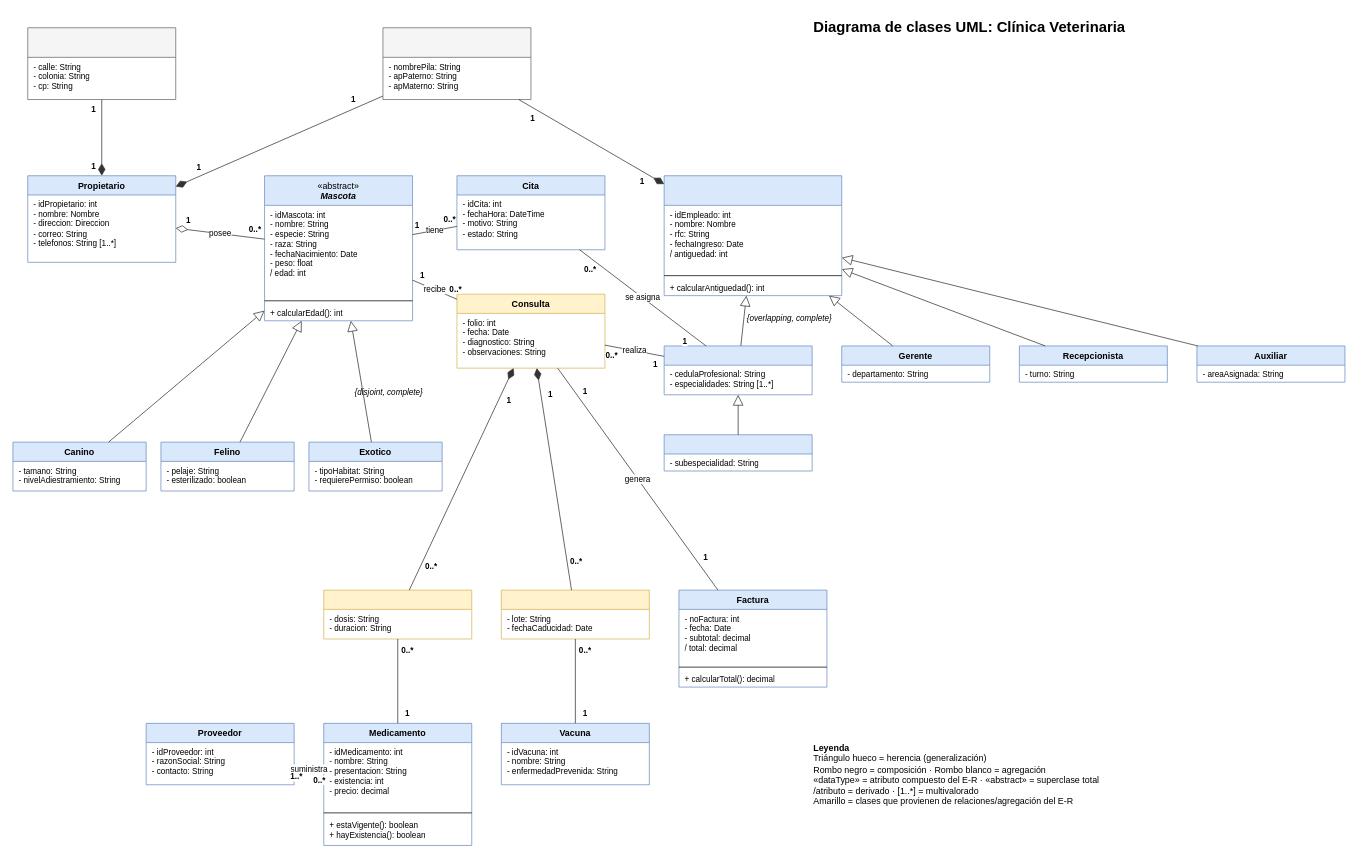
Some shapes in this 1358 by 860 pixel diagram are drawn without their labels. The shapes that lost their labels are listed below. From the top down, each one's box as (x1, y1, x2, y2) in pixels, then its label:
(27, 27, 176, 100): «dataType» Direccion
(382, 27, 531, 100): «dataType» Nombre
(663, 175, 842, 296): «abstract» Empleado
(663, 345, 812, 395): Veterinario
(663, 434, 812, 471): VeterinarioEspecialista
(323, 589, 472, 639): Receta
(501, 589, 649, 639): Aplicacion
